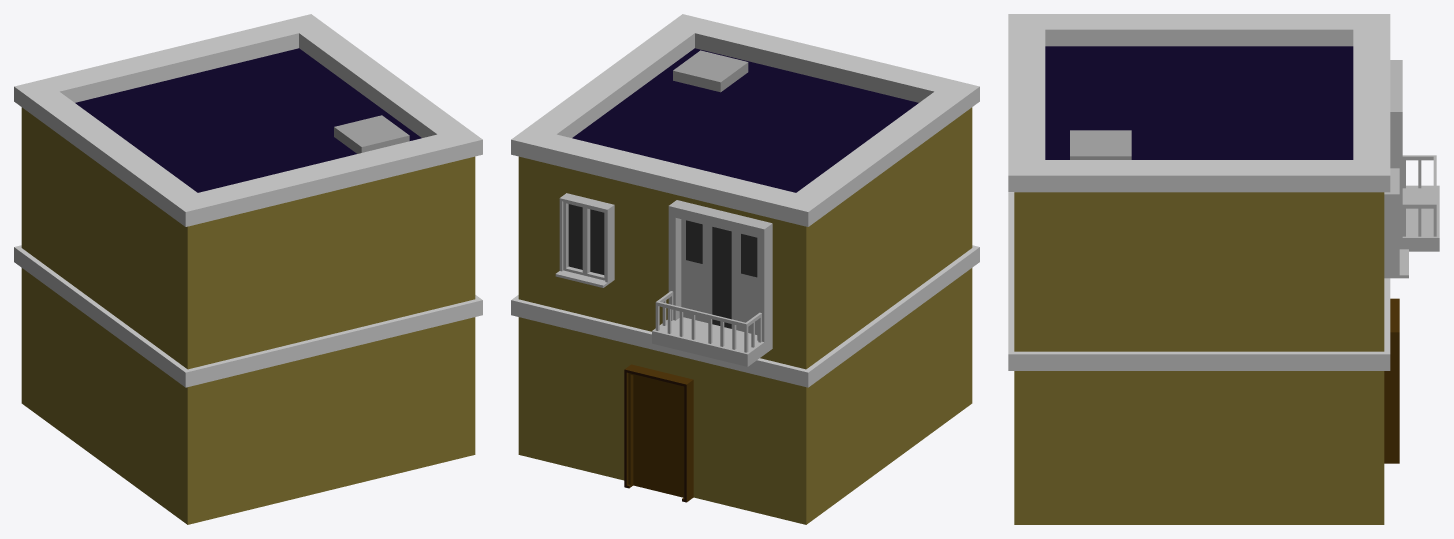
The model's file is Building 11.fbx.
The picture shows the model from 3 angles, left to right: view 1: azimuth 30°, elevation 25°; view 2: azimuth 150°, elevation 25°; view 3: azimuth 270°, elevation 25°; orthographic projection. The views are drawn at different scales.
Visible parts, largest first — view 1: Building_11; view 2: Building_11; view 3: Building_11.
Part boxes in pixels (bbox=[...]): Building_11: bbox=[14, 14, 482, 524]; Building_11: bbox=[511, 14, 979, 524]; Building_11: bbox=[1008, 14, 1439, 524].
Bounding box in the file's own units: 620 × 630 × 700.
